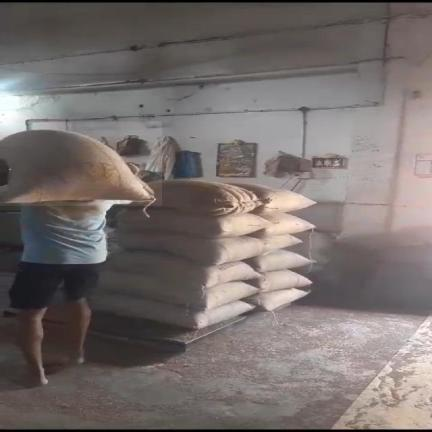Zone-Counting: (0, 130, 154, 385), (9, 200, 130, 385)
